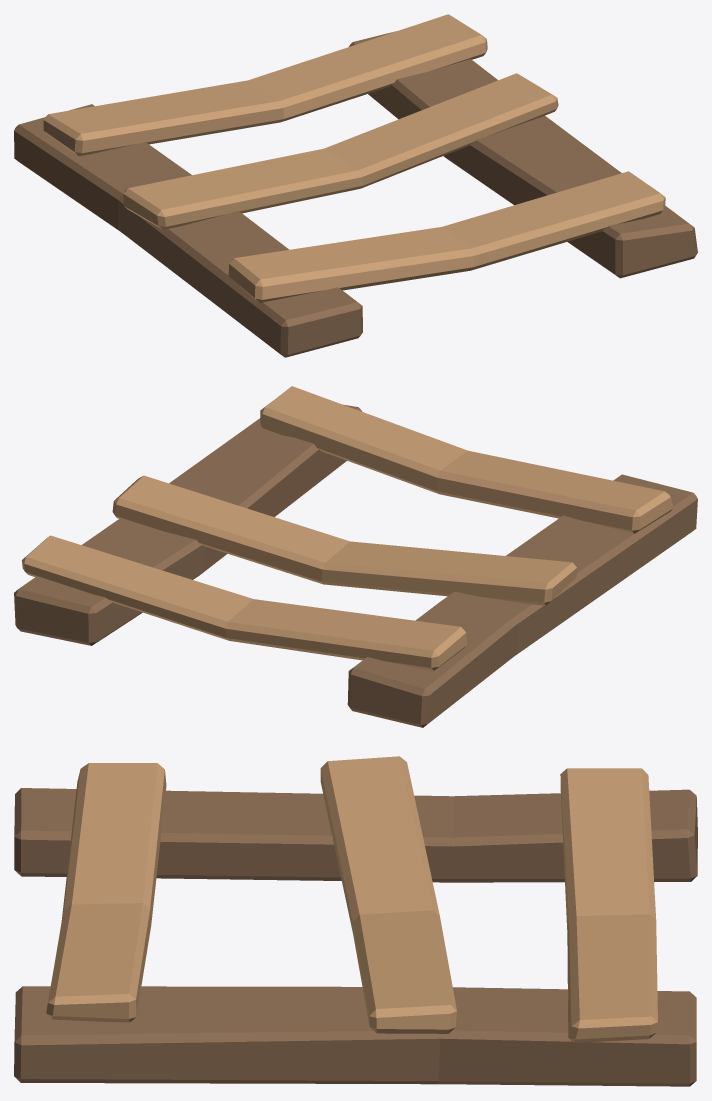
The model's file is wood fence3.fbx.
The picture shows the model from 3 angles, top to bottom: view 1: azimuth 30°, elevation 25°; view 2: azimuth 150°, elevation 25°; view 3: azimuth 270°, elevation 25°; orthographic projection. The views are drawn at different scales.
Visible parts, largest first — view 1: wooden-fence.003; view 2: wooden-fence.003; view 3: wooden-fence.003.
Part boxes in pixels (x1,y1,x2,y2): wooden-fence.003: (14, 14, 697, 357); wooden-fence.003: (14, 386, 697, 727); wooden-fence.003: (14, 756, 697, 1086).
Size of the model in its own units: 1.83 by 0.2637 by 2.
